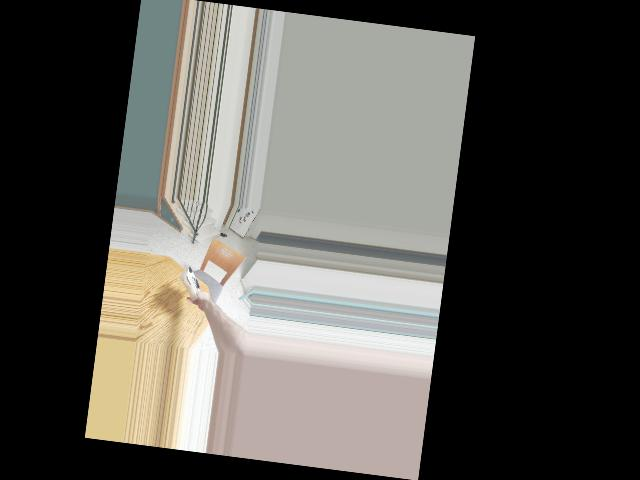cheese: (177, 264, 205, 302)
